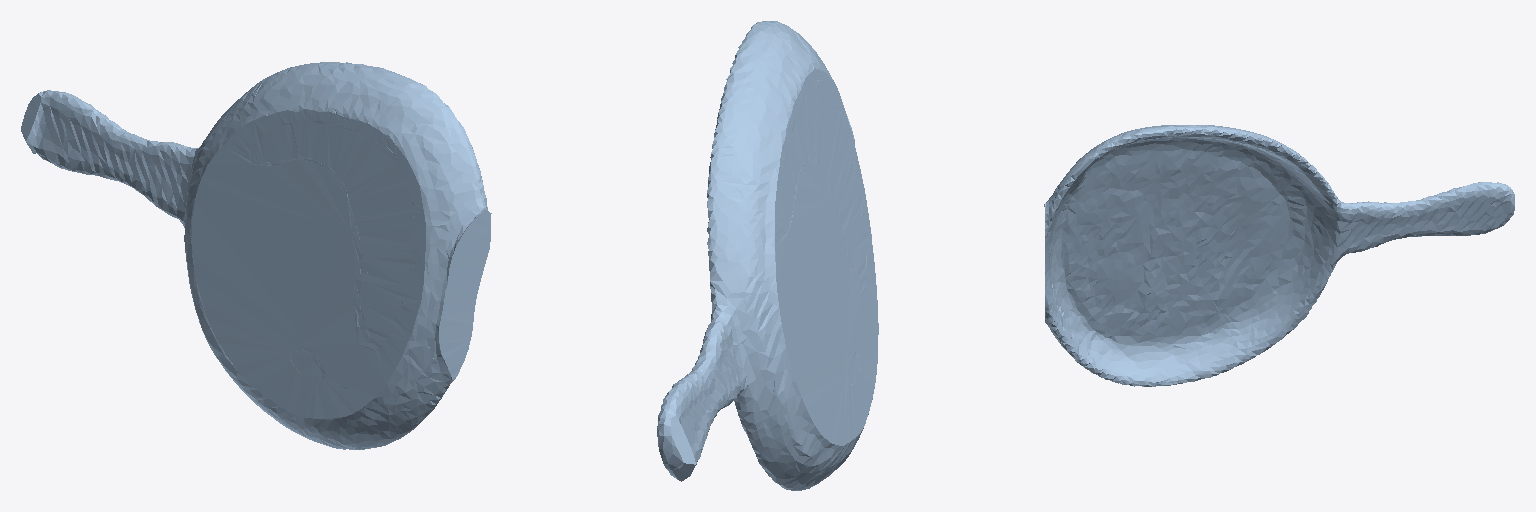
URDF robot description (Pan.urdf):
<?xml version="1.0" ?>
<robot name="Pan.urdf">
  <dynamics damping="0.5" friction="0.9"/>
  <link name="baseLink">
    <contact>
      <lateral_friction value="0.9"/>
      <rolling_friction value="0.5"/>
      <stiffness value="30000"/>
      <damping value="1000"/>
    </contact>
    <visual>
      <origin rpy="0 0 0" xyz="0 0 0"/>
      <geometry>
        <mesh filename="objects/Pan/Pan.obj" scale="1.0 1.0 1.0"/>
      </geometry>
      <material name="mat">
        <color rgba="0.7 0.8 0.9 1"/>
      </material>
    </visual>
    <collision>
      <origin rpy="0 0 0" xyz="0 0 0"/>
      <geometry>
        <mesh filename="objects/Pan/Pan.obj" scale="1.0 1.0 1.0"/>
      </geometry>
    </collision>
  </link>
</robot>

--- Facts derived from the render (not from the file) ---
3 views of the same robot in one strip: view 1: azimuth 30°, elevation 25°; view 2: azimuth 150°, elevation 25°; view 3: azimuth 270°, elevation 25° (orthographic).
Model Pan.urdf with 1 links and 0 joints (none), rooted at baseLink, posed all joints at 0.
Links seen in each view (by area): view 1: baseLink; view 2: baseLink; view 3: baseLink.
Link boxes in pixels (bbox=[...]): baseLink: bbox=[21, 62, 491, 449]; baseLink: bbox=[657, 21, 878, 490]; baseLink: bbox=[1044, 125, 1514, 386].
Size in the robot's own frame: 0.1142 by 0.3086 by 0.206 metres.
Meshes: 1 distinct files referenced, 1 mesh visuals loaded (1 OBJ).
